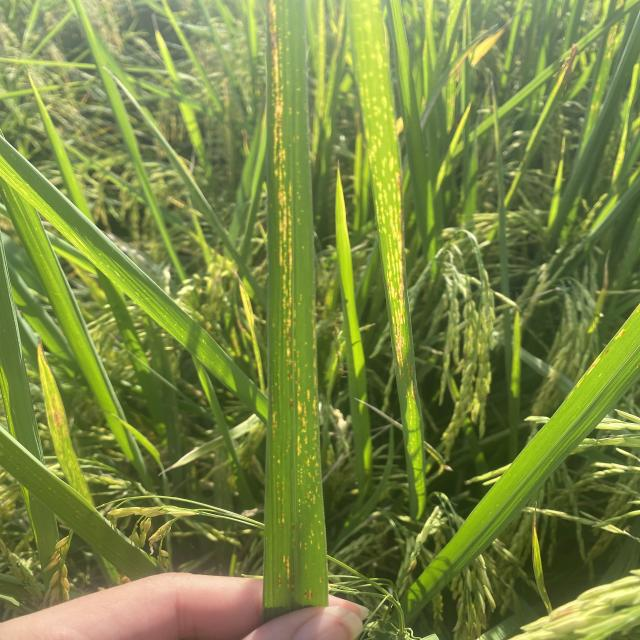Dom soc vi khuan: (286, 238, 294, 327), (394, 302, 404, 367), (389, 235, 396, 275), (388, 206, 397, 237), (283, 215, 287, 242), (272, 412, 276, 436), (297, 435, 301, 456), (286, 558, 290, 579), (411, 381, 414, 398)
